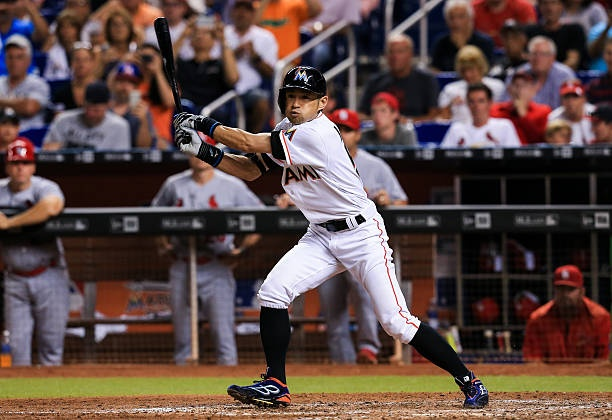bita: (154, 16, 189, 144)
